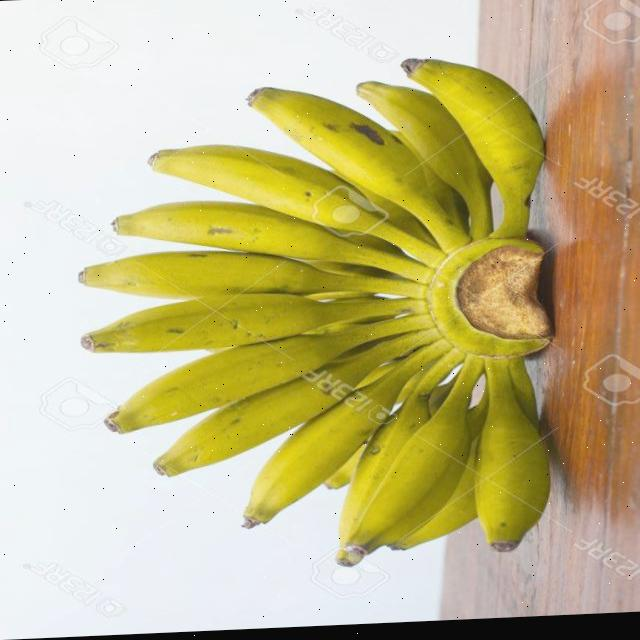banana: (70, 46, 558, 587)
